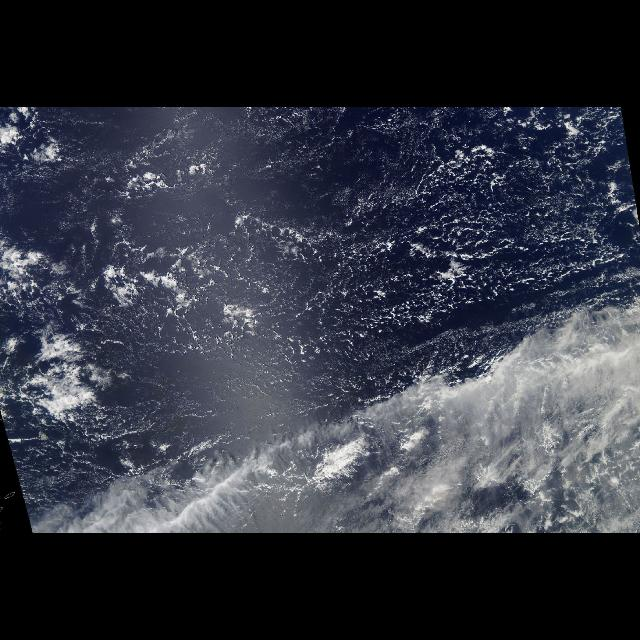Gravel: (1, 107, 638, 505)
Sugar: (206, 109, 602, 307)
